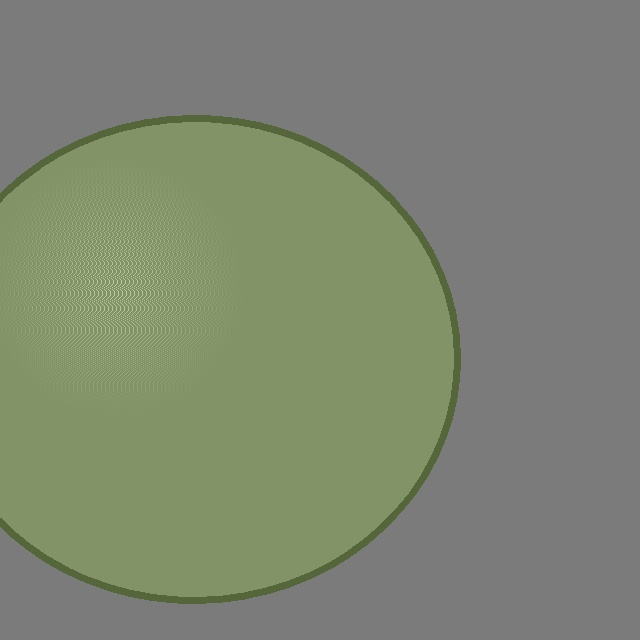lens: (0, 118, 457, 600)
